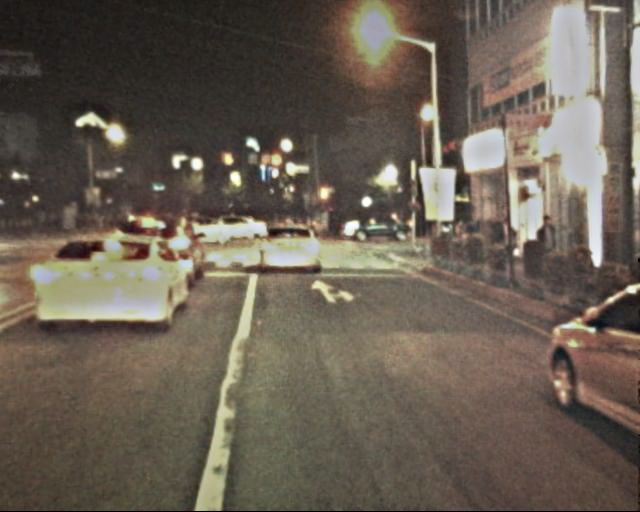person: (37, 202, 130, 239), (534, 212, 564, 286), (497, 218, 521, 277), (267, 210, 312, 233)
